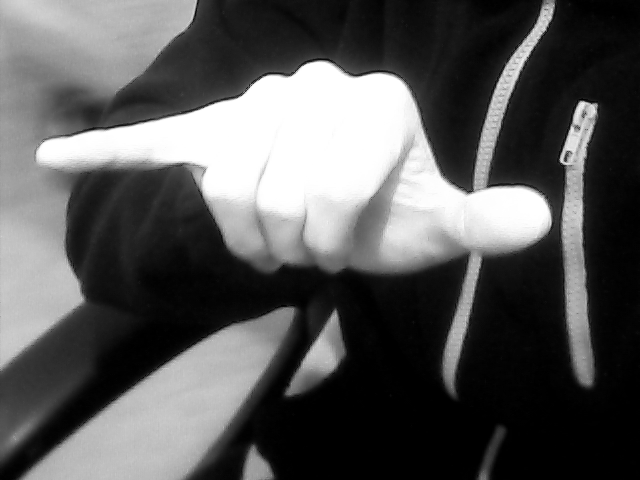aloha: (35, 58, 551, 275)
